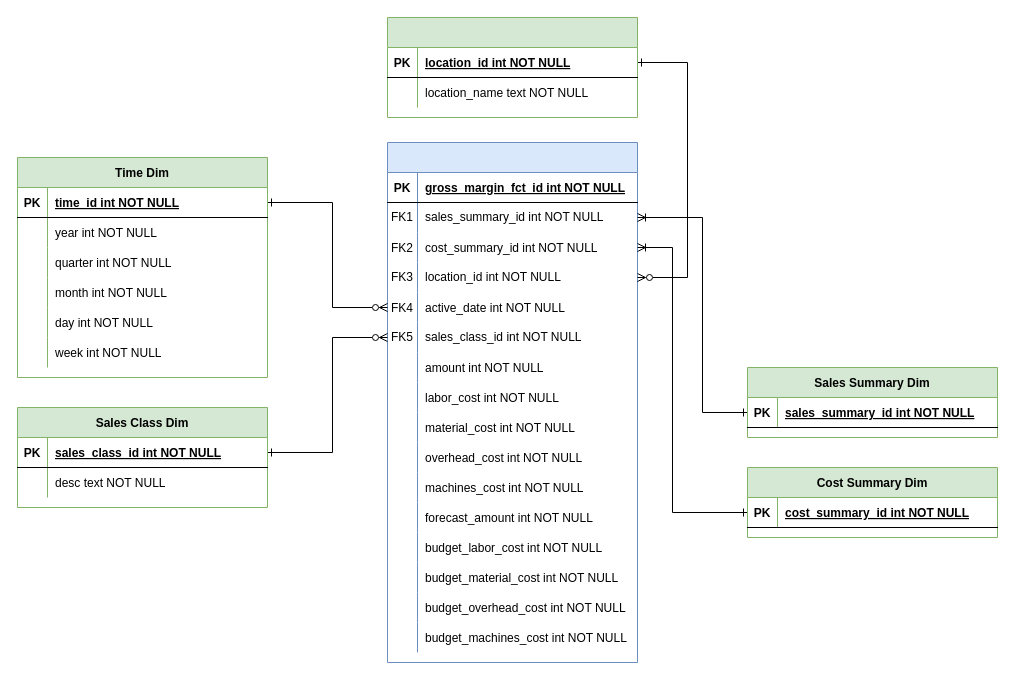
The diagram is 1015 pixels wide and 680 high, and some of its shapes have lost their labels. The box of each missing label's shape, as (x1, y1, x2, y2) in pixels:
Gross Margin Fact: (386, 142, 638, 662)
Location Dim: (386, 16, 638, 118)
